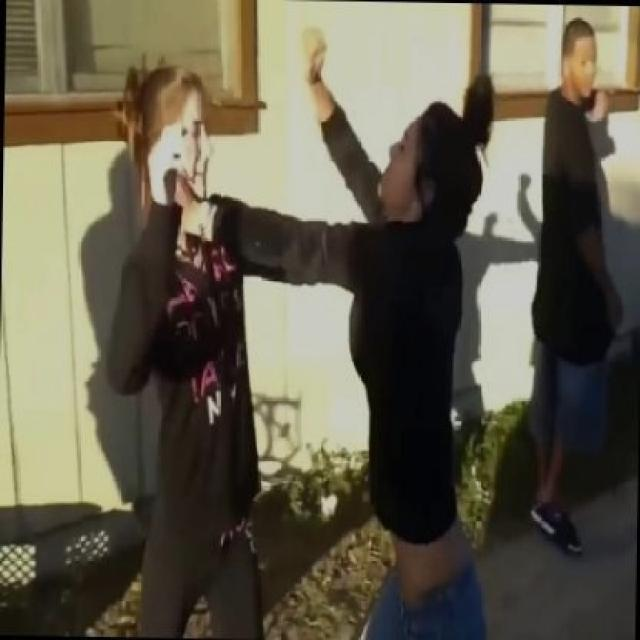fight: (43, 29, 523, 634)
non-fight: (454, 8, 638, 564)
